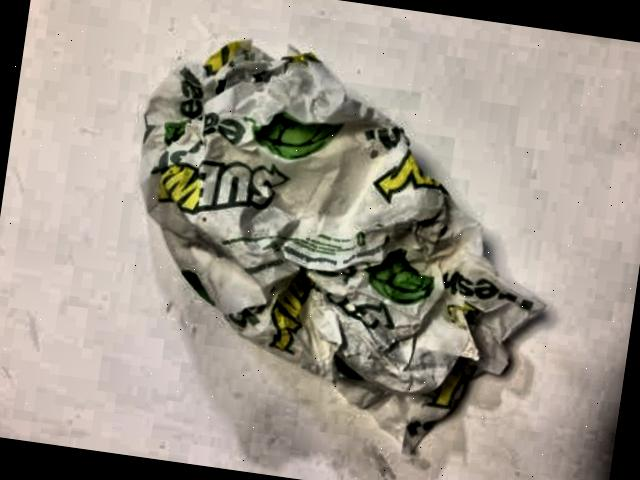Paper: (71, 19, 591, 465)
